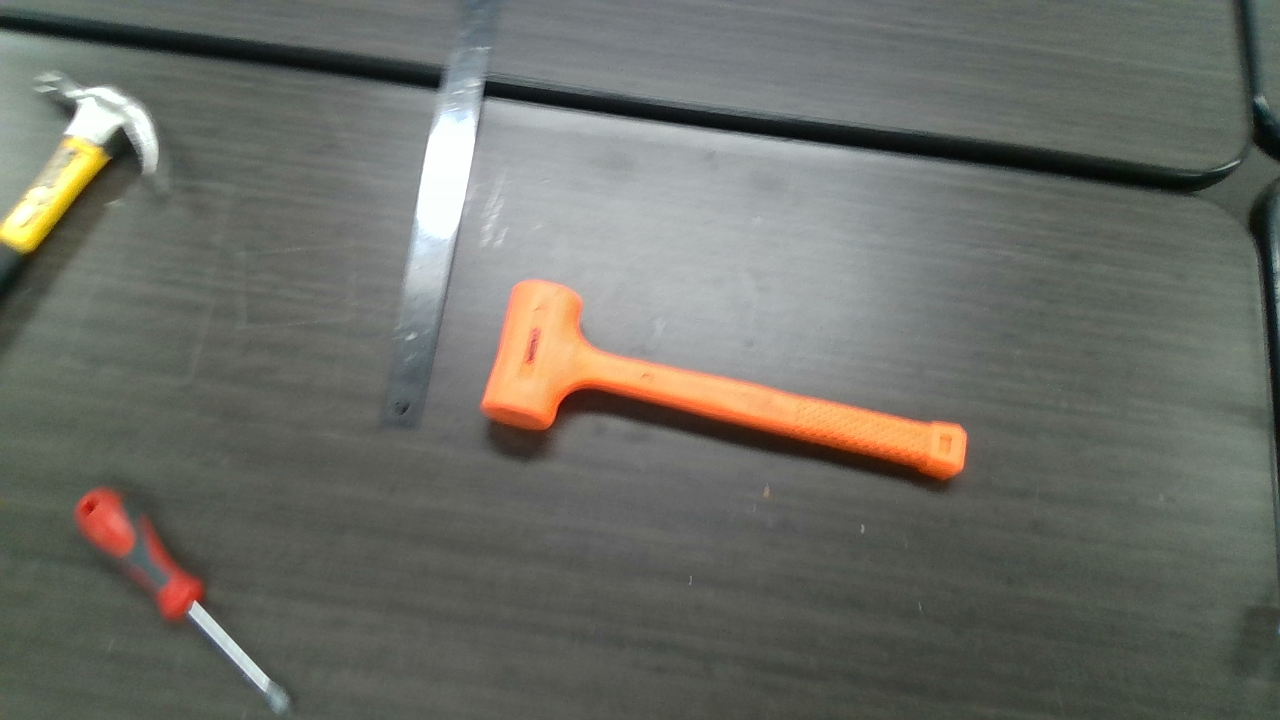Orange Hammer: (490, 277, 967, 481)
